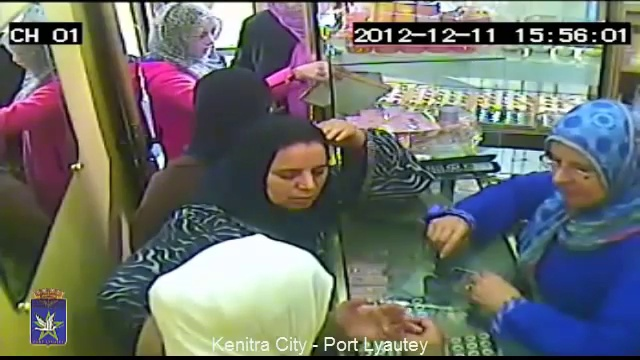face: (547, 143, 600, 203), (267, 159, 330, 209), (177, 23, 220, 60)
